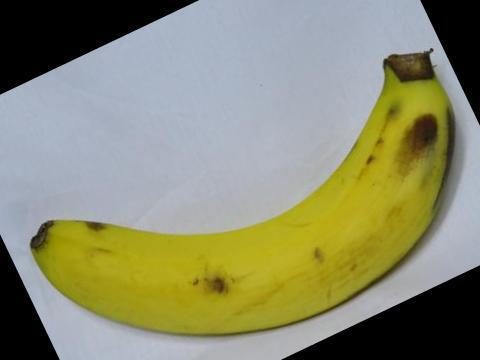freshripe: (13, 35, 462, 346)
